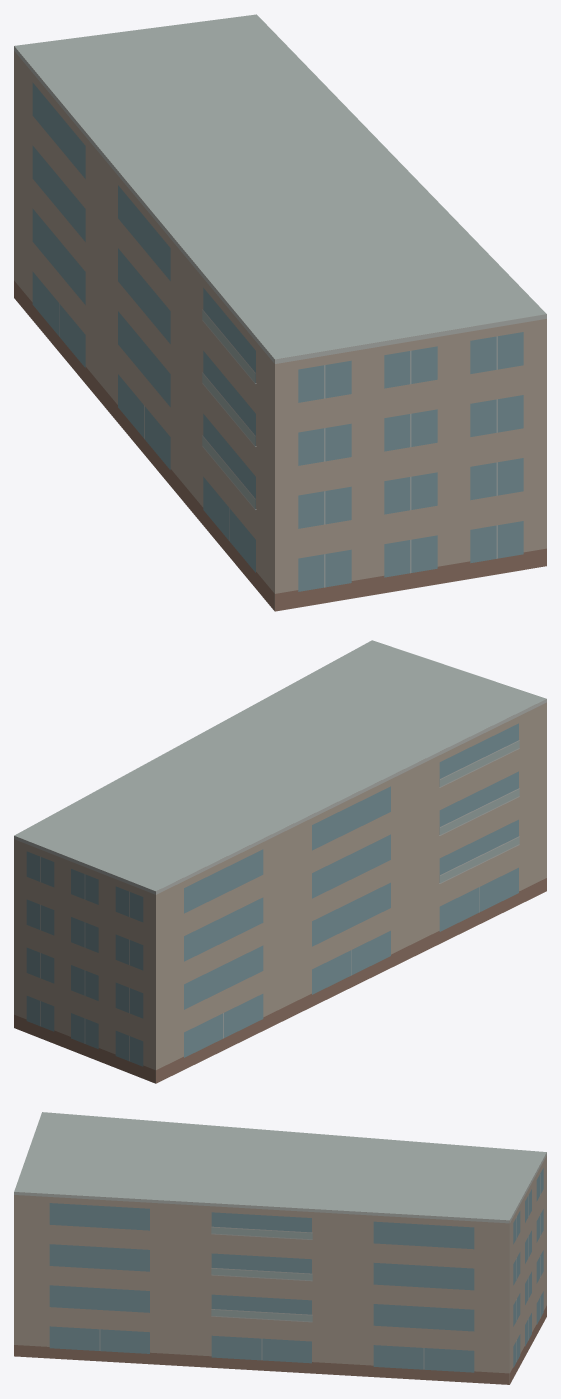
File: survey-upis-32974811.glb
The picture shows the model from 3 angles, top to bottom: view 1: azimuth 30°, elevation 25°; view 2: azimuth 150°, elevation 25°; view 3: azimuth 270°, elevation 25°; orthographic projection. The views are drawn at different scales.
Visible parts, largest first — view 1: survey-upis-32974811.tmp; view 2: survey-upis-32974811.tmp; view 3: survey-upis-32974811.tmp.
Boxes of the visible parts, box(x1,y1,x2,y2) form: survey-upis-32974811.tmp: box(14, 14, 546, 611); survey-upis-32974811.tmp: box(14, 640, 546, 1083); survey-upis-32974811.tmp: box(14, 1112, 546, 1384).
Size of the model in its own units: 18.65 by 13.2 by 38.75.
